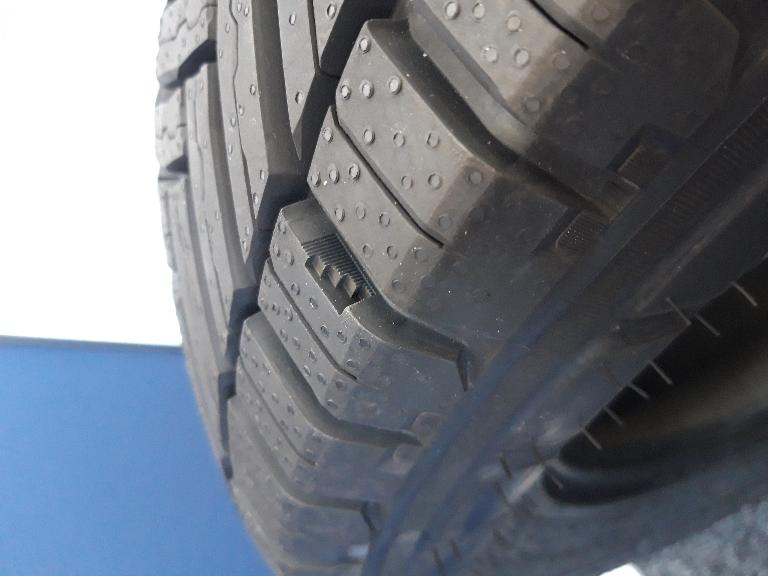temoin:100: (293, 227, 384, 322)
